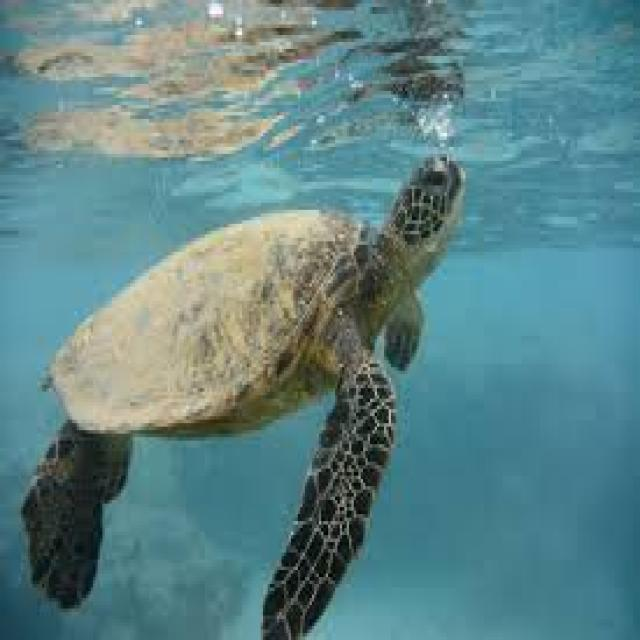turtle: (140, 93, 487, 568)
